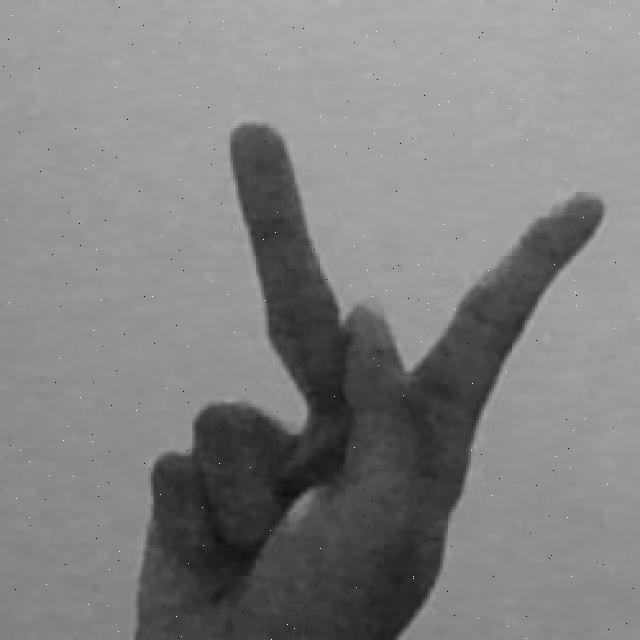K: (129, 110, 609, 640)
